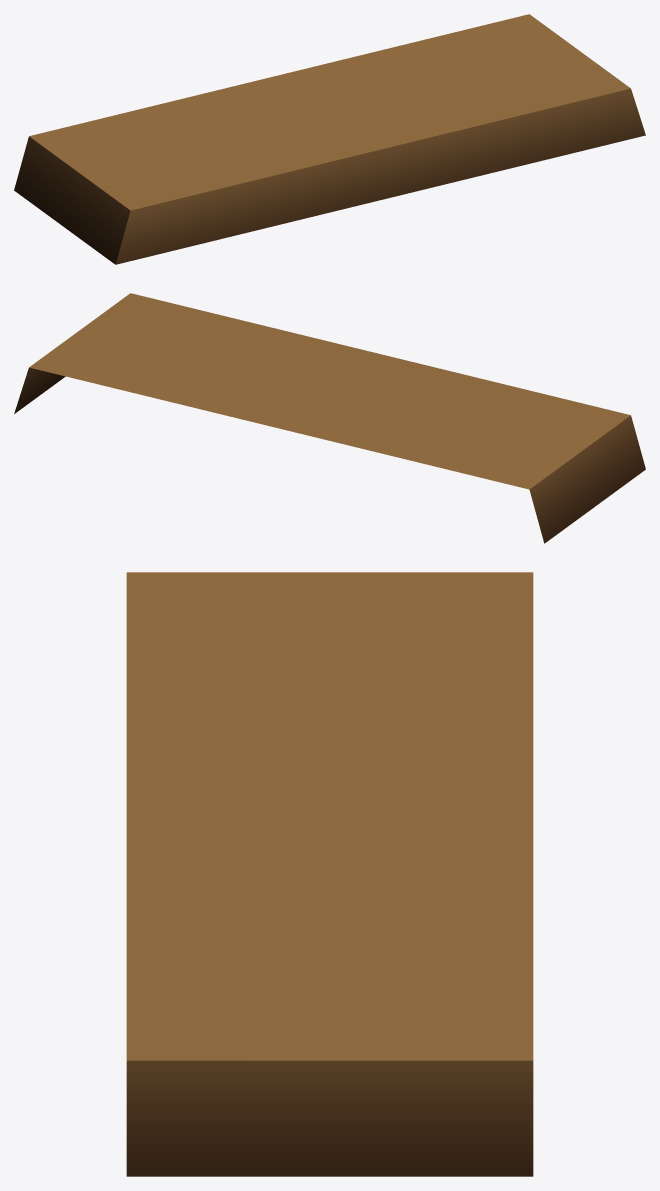
File: Stairs_04B.fbx
The picture shows the model from 3 angles, top to bottom: view 1: azimuth 30°, elevation 25°; view 2: azimuth 150°, elevation 25°; view 3: azimuth 270°, elevation 25°; orthographic projection. The views are drawn at different scales.
Parts seen in each view (by area): view 1: Stairs_04B; view 2: Stairs_04B; view 3: Stairs_04B.
Part boxes in pixels (box(x1,y1,x2,y2)): Stairs_04B: box(14, 14, 645, 264); Stairs_04B: box(14, 293, 645, 543); Stairs_04B: box(126, 572, 533, 1176).
Bounding box in the file's own units: 164 × 14.98 × 54.52.
Materials: 1 (1 with a texture image).
